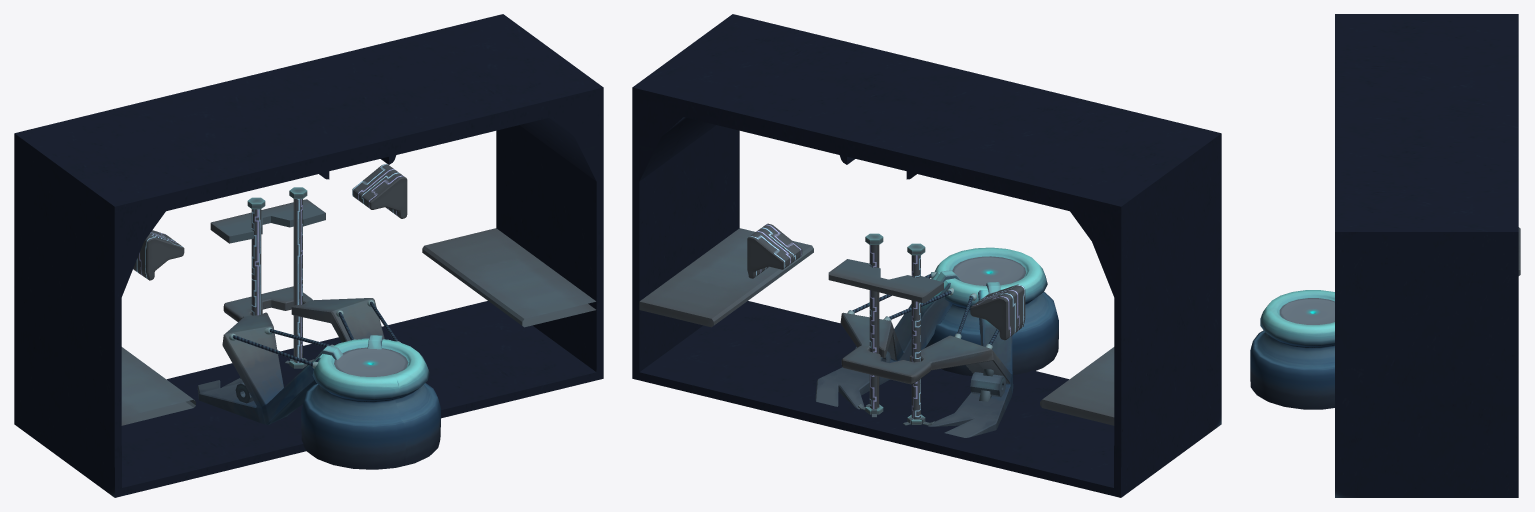
Rendered from ReactorCore_Main.fbx.
3 views of the same model, side by side, from view 1: azimuth 30°, elevation 25°; view 2: azimuth 150°, elevation 25°; view 3: azimuth 270°, elevation 25° (orthographic). The views are drawn at different scales.
Visible parts, largest first — view 1: polySurface304; view 2: polySurface304; view 3: polySurface304.
Part boxes in pixels (box(x1,y1,x2,y2)): polySurface304: box(14, 14, 603, 497); polySurface304: box(632, 14, 1221, 497); polySurface304: box(1250, 14, 1520, 497).
Size of the model in its own units: 34.99 by 19.91 by 18.35.
